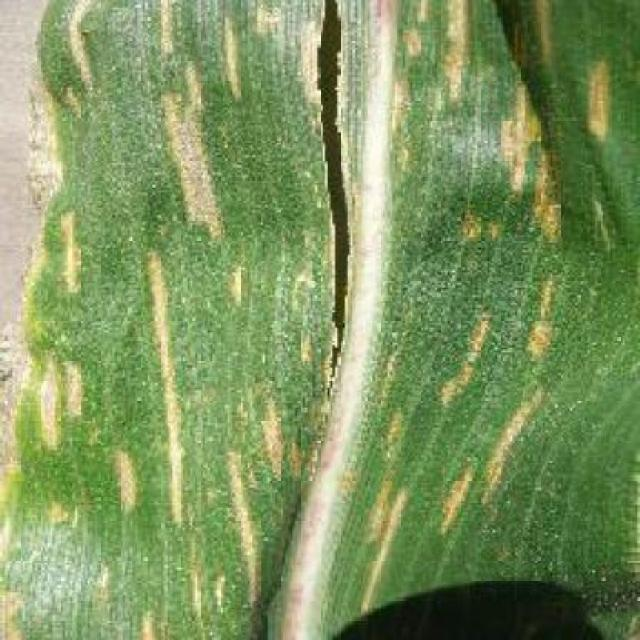Corn_Grey_Leaf_Spot: (42, 3, 629, 623)
